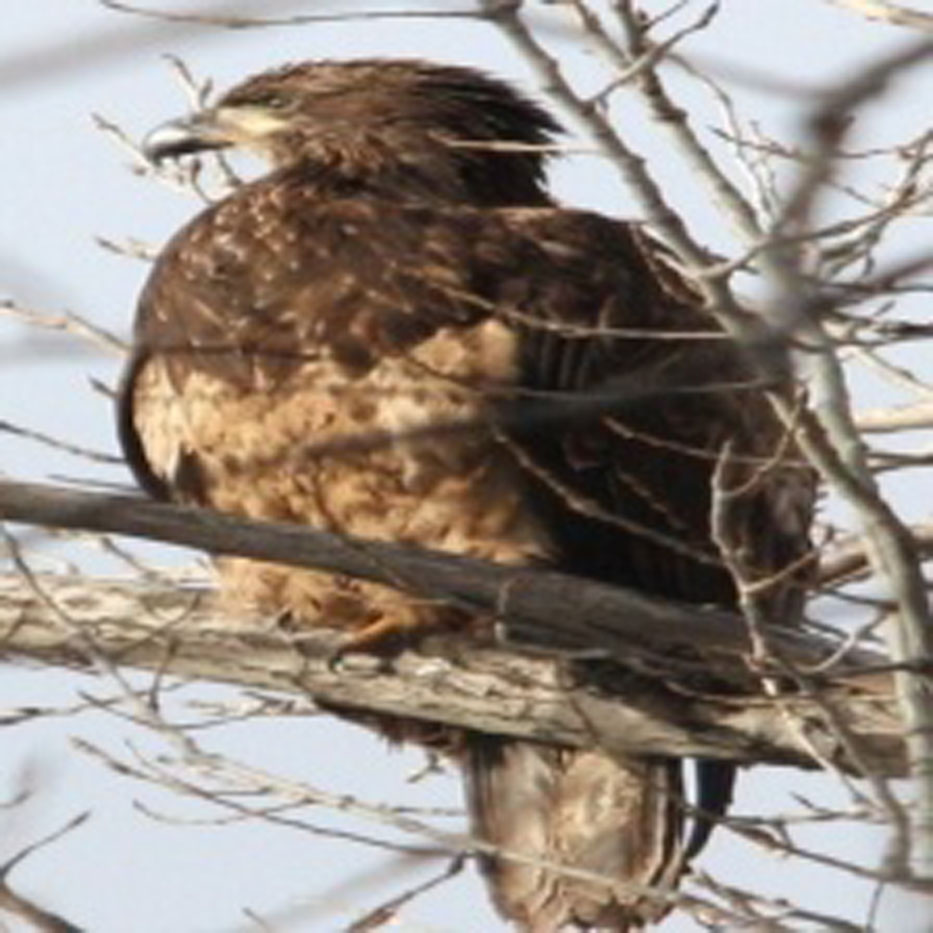Pengoyak Daging: (129, 113, 219, 180)
